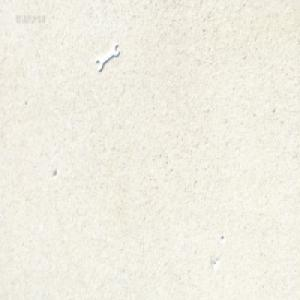Wrench: (95, 43, 118, 72)
